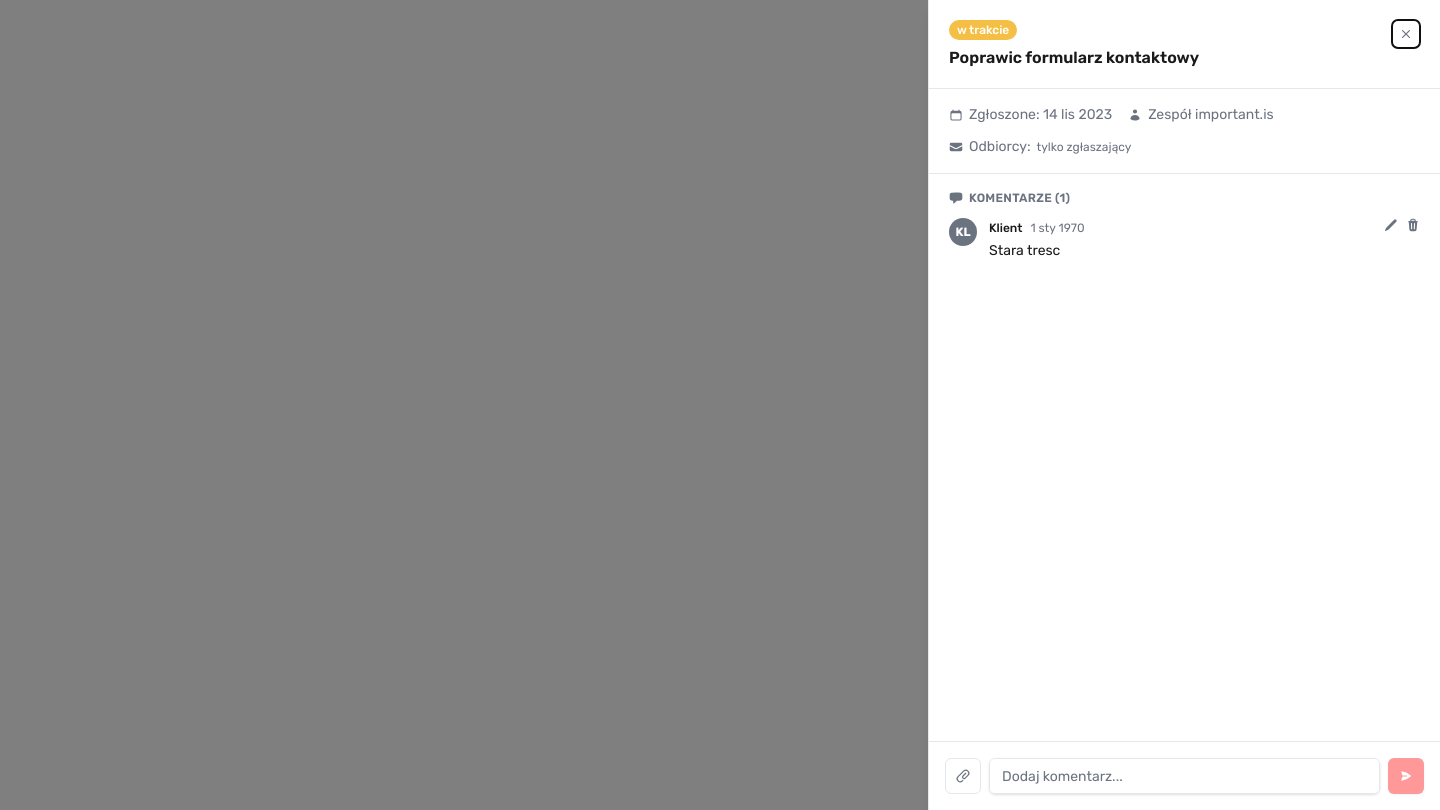
Test: edycja i usuwanie wlasnego komentarza › anulowanie edycji przywraca widok bez wysylania niczego
Check: the text "Stara tresc" is shown, box [989,242,1060,259]
Click the button named "Edytuj komentarz" at (1391, 225), box [1384,218,1398,232]
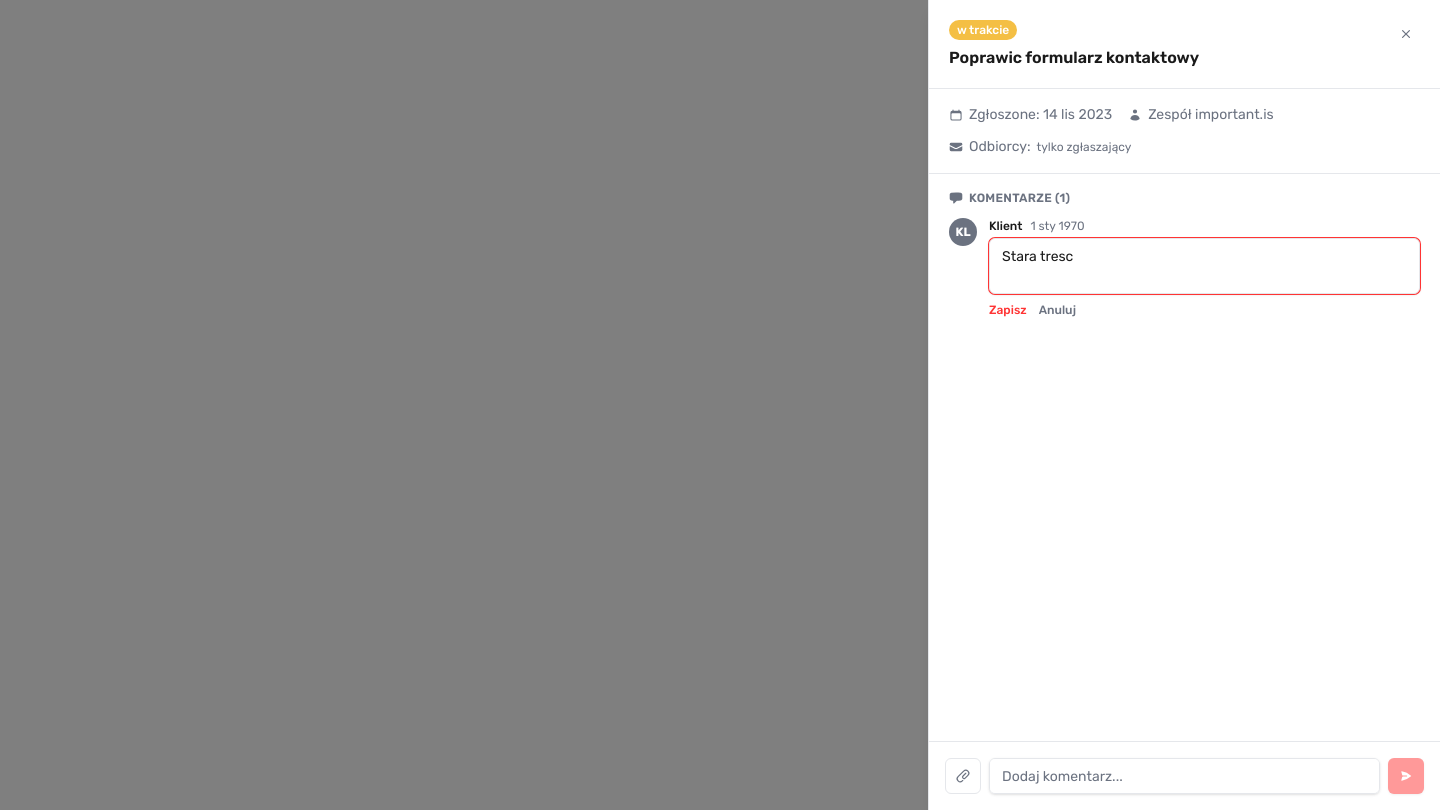
Type " dopisek" into the text box showing "Stara tresc" at (1204, 266), box [989,238,1420,294]
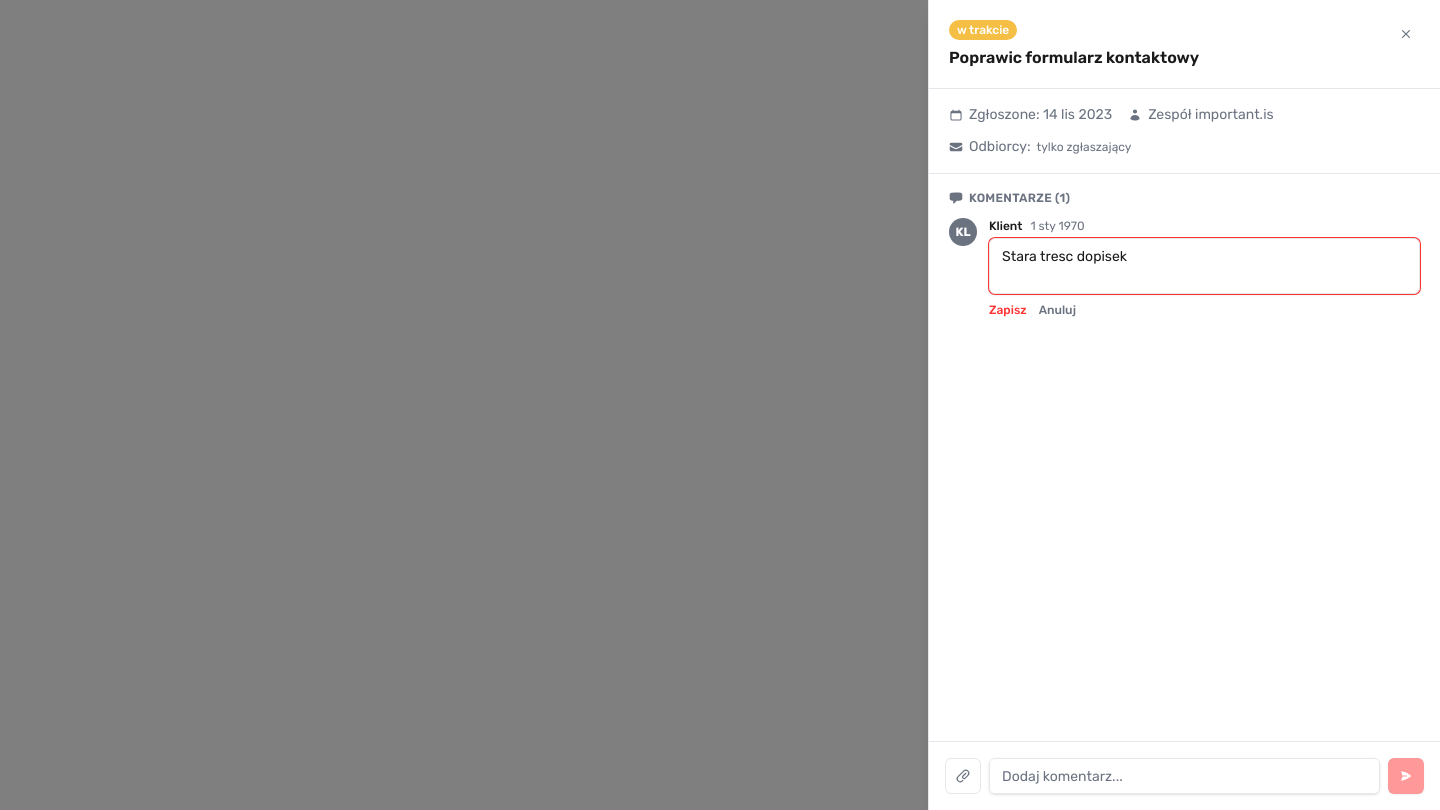
Click the button "Anuluj" at (1057, 310), box [1039,302,1076,318]
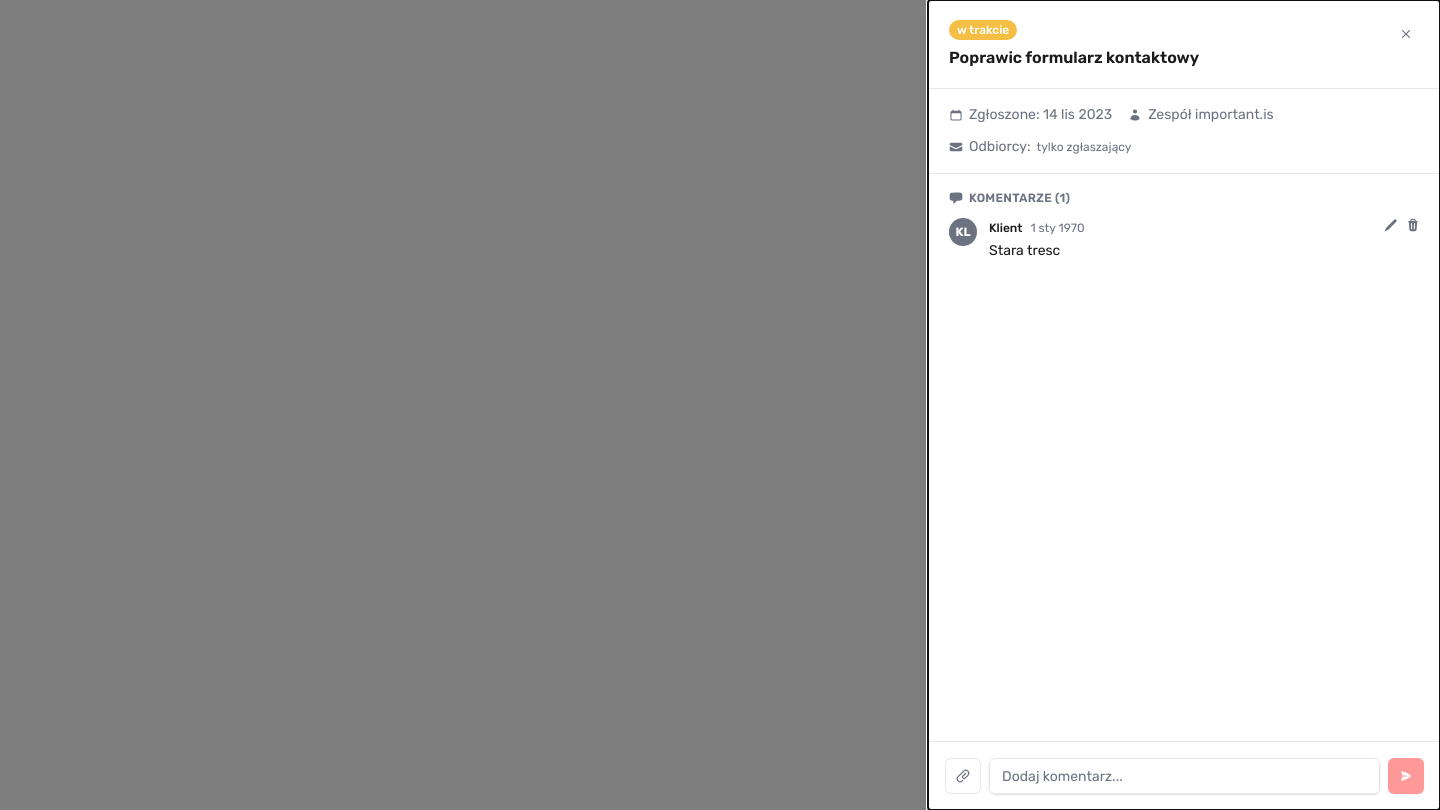
Check: the text "Stara tresc" is shown, box [989,242,1060,259]
